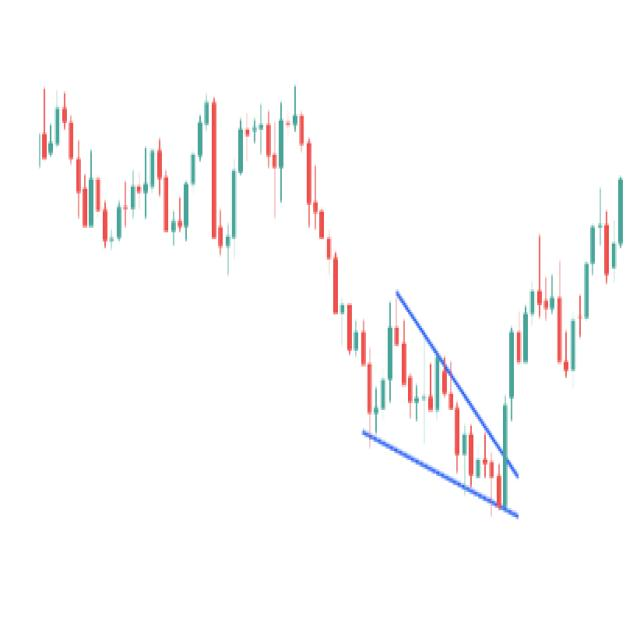Falling-Wedge: (314, 281, 532, 522)
